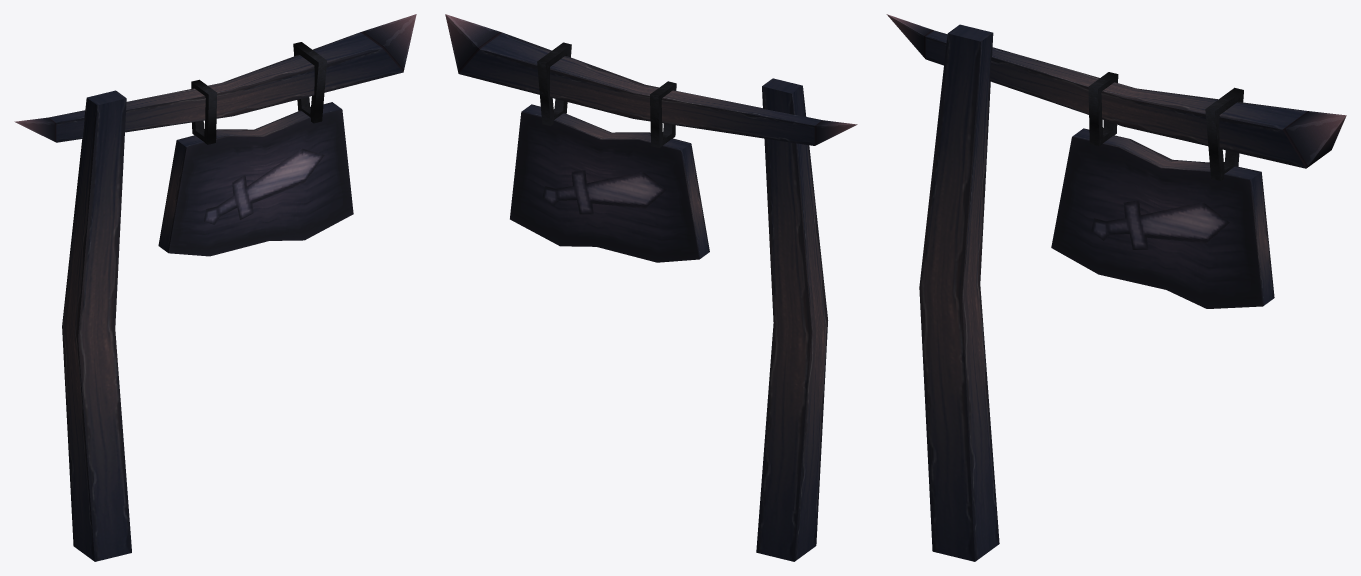
Rendered from Sign_Sword.fbx.
3 views of the same model, side by side, from view 1: azimuth 30°, elevation 25°; view 2: azimuth 150°, elevation 25°; view 3: azimuth 330°, elevation 25° (orthographic). The views are drawn at different scales.
Parts seen in each view (by area): view 1: Sign_Sword; view 2: Sign_Sword; view 3: Sign_Sword.
Part boxes in pixels (x1,y1,x2,y2): Sign_Sword: [14, 14, 416, 561]; Sign_Sword: [445, 14, 857, 561]; Sign_Sword: [886, 14, 1346, 561].
Size of the model in its own units: 108 by 115 by 15.24.
1 material, 1 textured.
